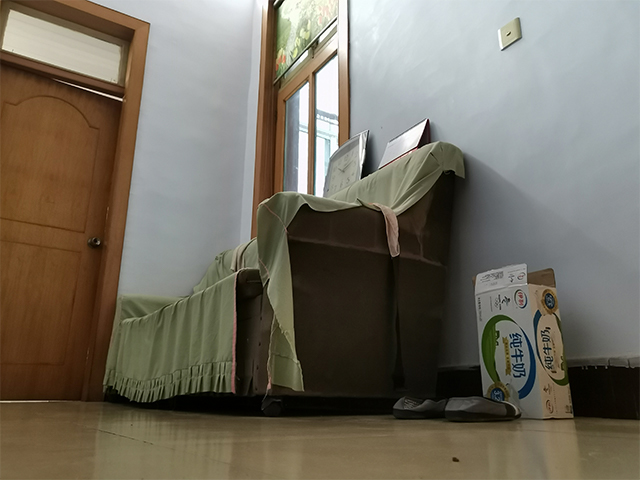sofa: (99, 139, 469, 419)
